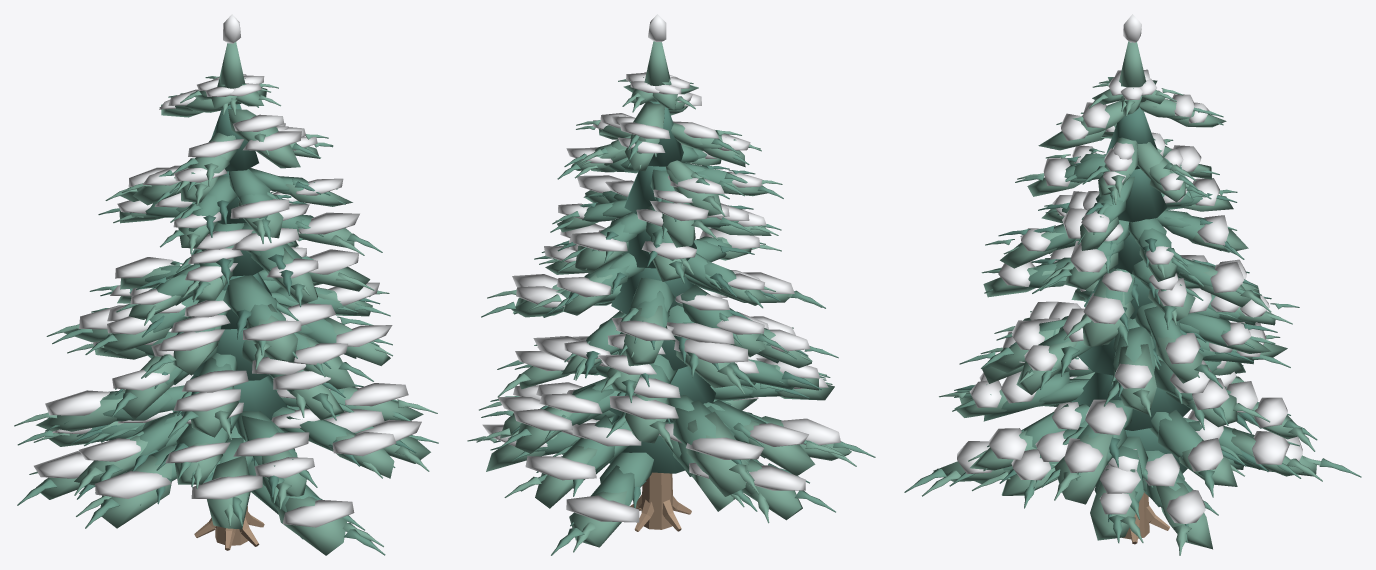
File: Snow_Pine_3.gltf
The picture shows the model from 3 angles, left to right: view 1: azimuth 30°, elevation 25°; view 2: azimuth 150°, elevation 25°; view 3: azimuth 270°, elevation 25°; orthographic projection. The views are drawn at different scales.
Visible parts, largest first — view 1: Snow_Pine_3; view 2: Snow_Pine_3; view 3: Snow_Pine_3.
Boxes of the visible parts, x1=… form: Snow_Pine_3: x1=14, y1=14, x2=438, y2=555; Snow_Pine_3: x1=467, y1=14, x2=875, y2=555; Snow_Pine_3: x1=904, y1=14, x2=1361, y2=555.
Size of the model in its own units: 4.04 by 5.35 by 4.28.
